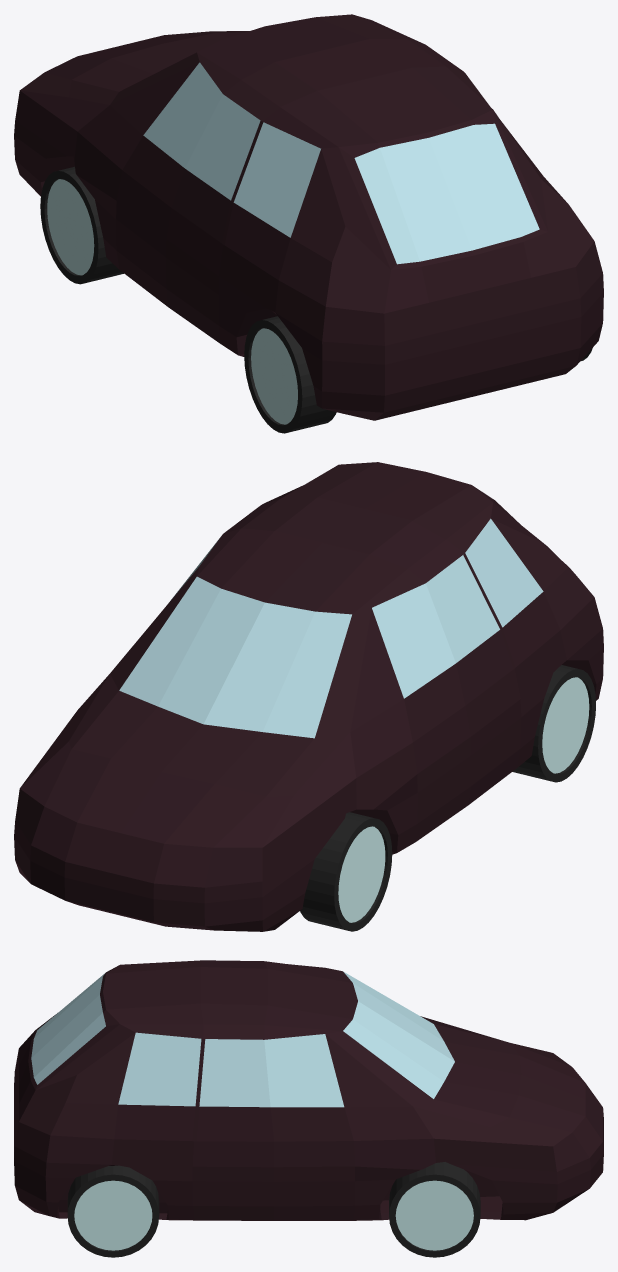
File: normalcar.fbx
3 renders of one model, top to bottom at view 1: azimuth 30°, elevation 25°; view 2: azimuth 150°, elevation 25°; view 3: azimuth 270°, elevation 25°, orthographic. The views are drawn at different scales.
Visible parts, largest first — view 1: Normal; view 2: Normal; view 3: Normal.
Boxes of the visible parts, x1,y1,x2,y2 form: Normal: [14, 14, 603, 433]; Normal: [14, 462, 603, 931]; Normal: [14, 960, 603, 1257].
Bounding box in the file's own units: 350 × 743 × 300.
